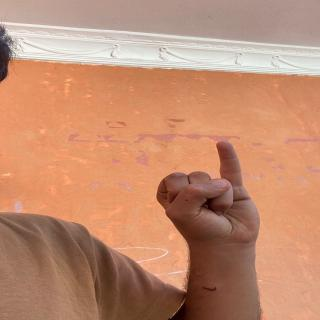MEEM: (150, 141, 286, 246)
